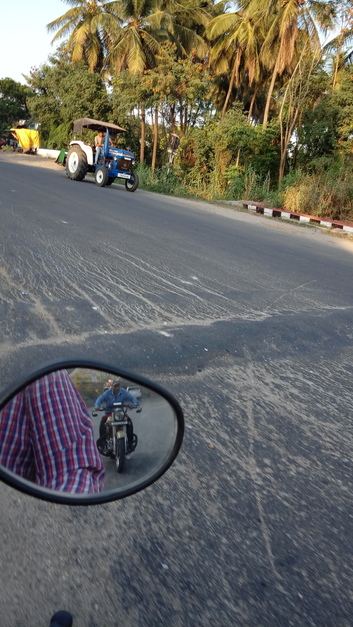bump: (1, 310, 353, 399)
